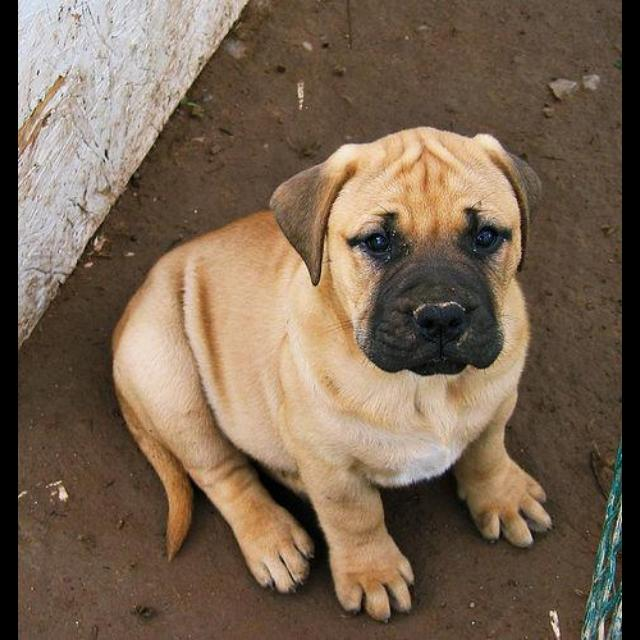bullmastiff: (110, 126, 554, 623)
